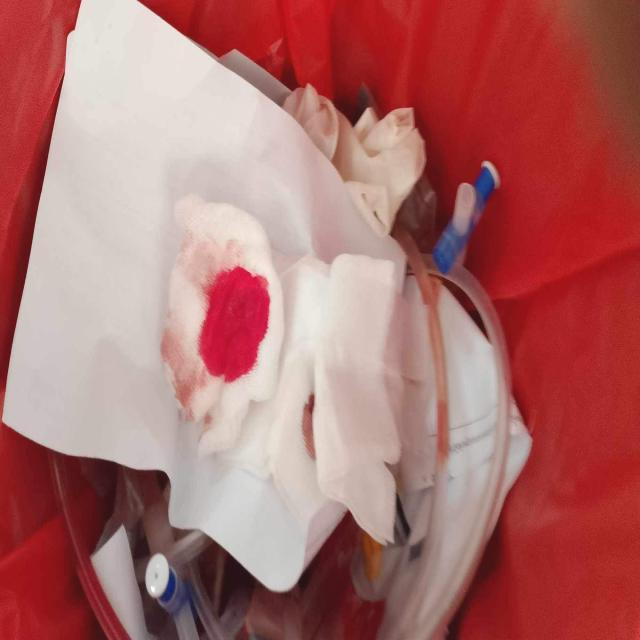General: (4, 2, 535, 637)
Infectious: (161, 192, 286, 456)
Sharps: (432, 159, 502, 275), (145, 551, 201, 638)
